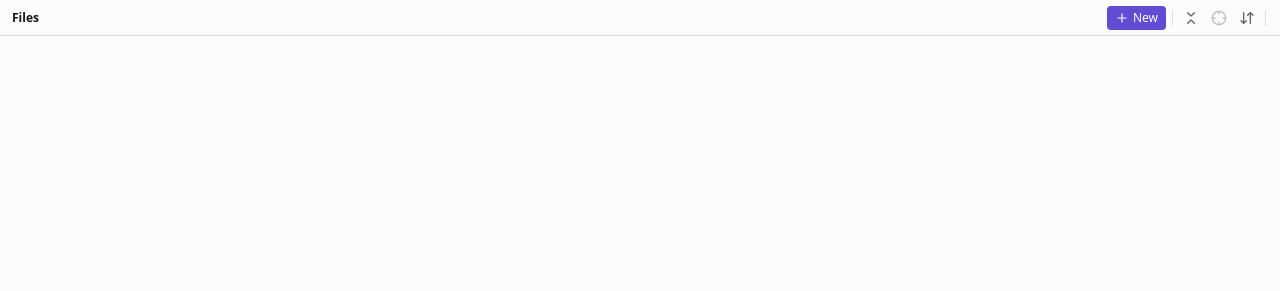
TreeToolbar › New has no starter and no template, and offers the daily note
Click the button "New" at point(1136, 18), box [1107, 6, 1166, 30]
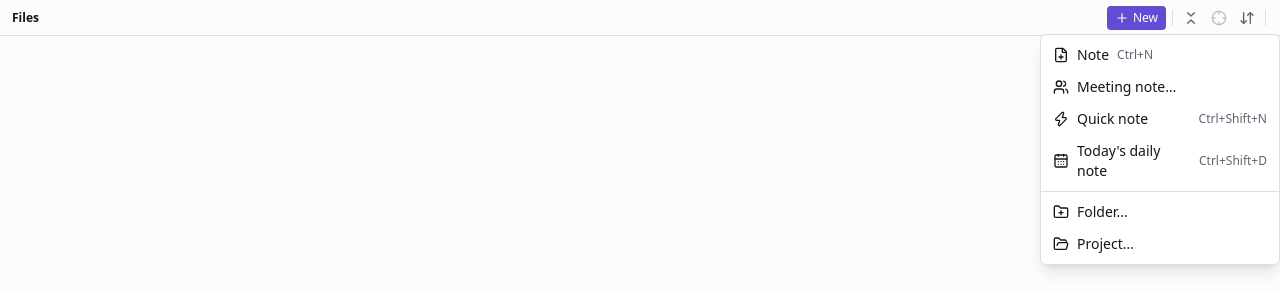
expect the menu item "Today's daily note Ctrl+Shift+D" is shown: met, box [1045, 135, 1275, 187]
